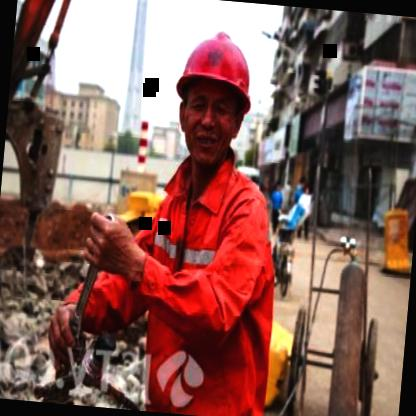helmet: (159, 18, 266, 172)
